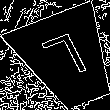L_SE: (40, 31, 95, 89)
